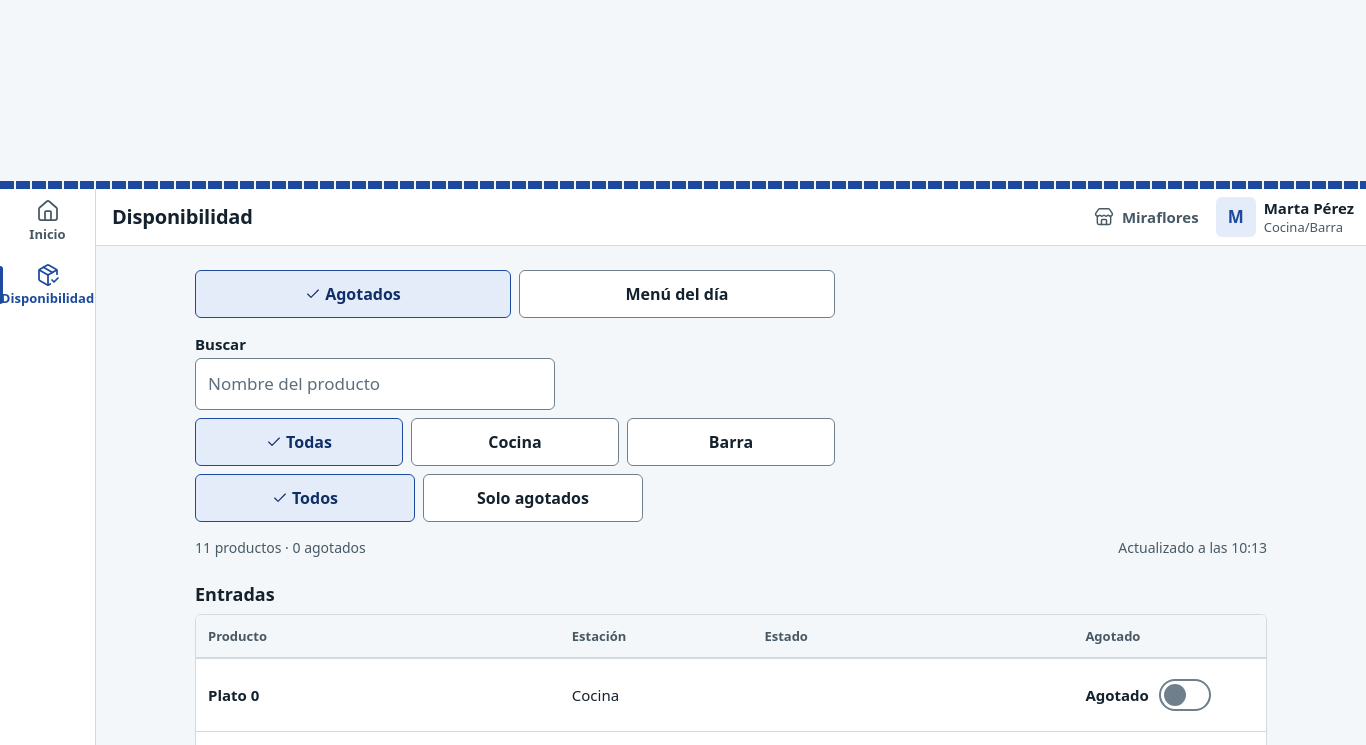
it: Agotados: filtros › la búsqueda aparece con muchos productos y filtra sin importar tildes ni mayúsculas
(page scrolled)
In the search field labelled "Buscar": (375, 384) top-left (196, 360), bottom-right (554, 408), type "AJI"
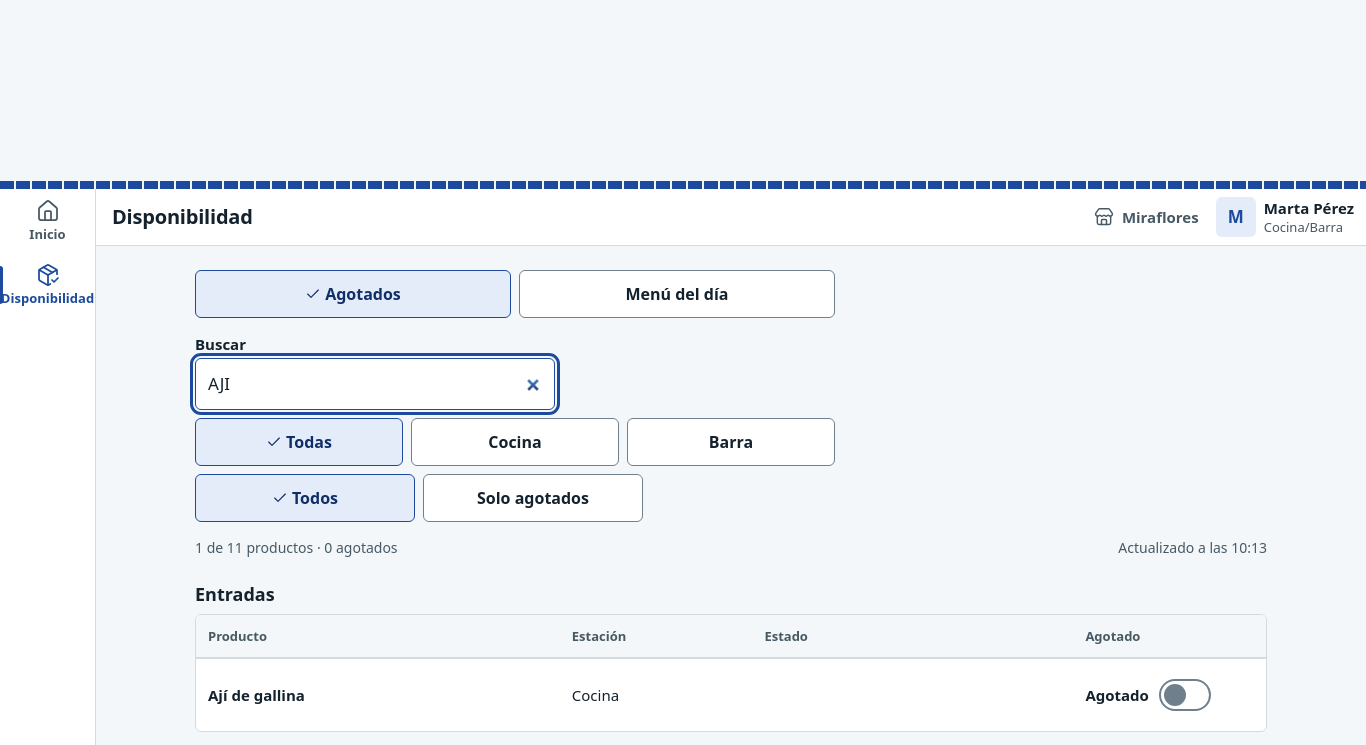
Expected: the text "Ají de gallina" is shown, top-left (208, 685), bottom-right (305, 705)
Replace the text in the search field labelled "Buscar" with "zzz": (375, 384) top-left (196, 360), bottom-right (554, 408)
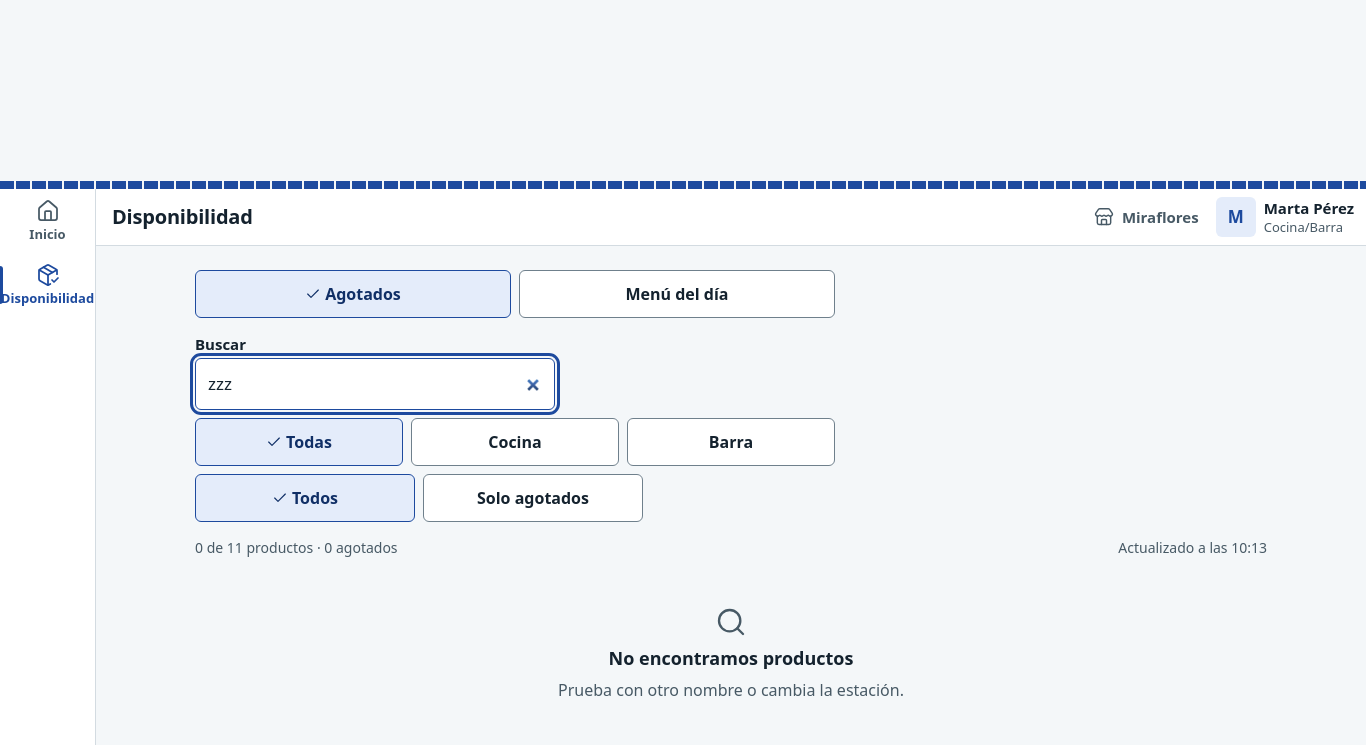
Now the text "No encontramos productos" is shown, box top-left (609, 646), bottom-right (853, 670)
